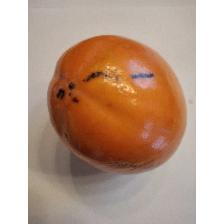Kaki: (44, 30, 190, 178)
